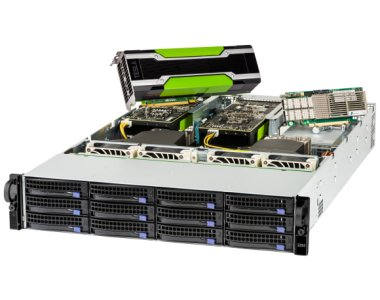ibm-server: (3, 169, 339, 268)
